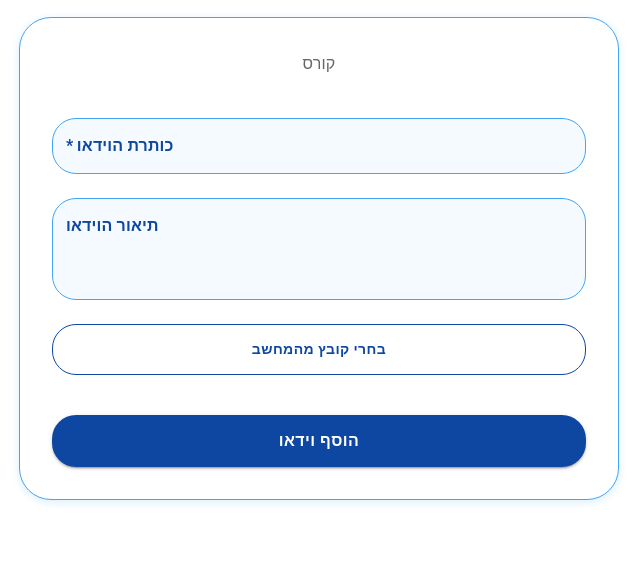
Test: AddVideoToCourseForm › מציג שגיאה אם מנסים לשלוח בלי כותרת
The image size is (639, 572).
Click the button "הוסף וידאו" at x=319, y=440, box [52, 414, 586, 466]
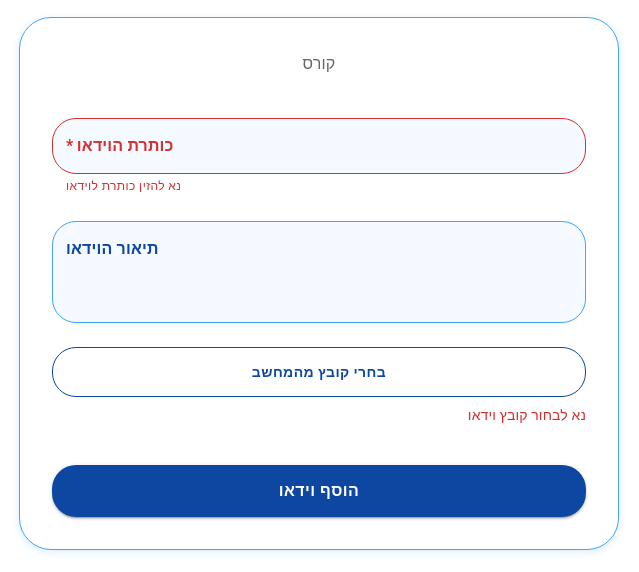
Result: the text "נא להזין כותרת לוידאו" is shown at [66, 179, 181, 193]
